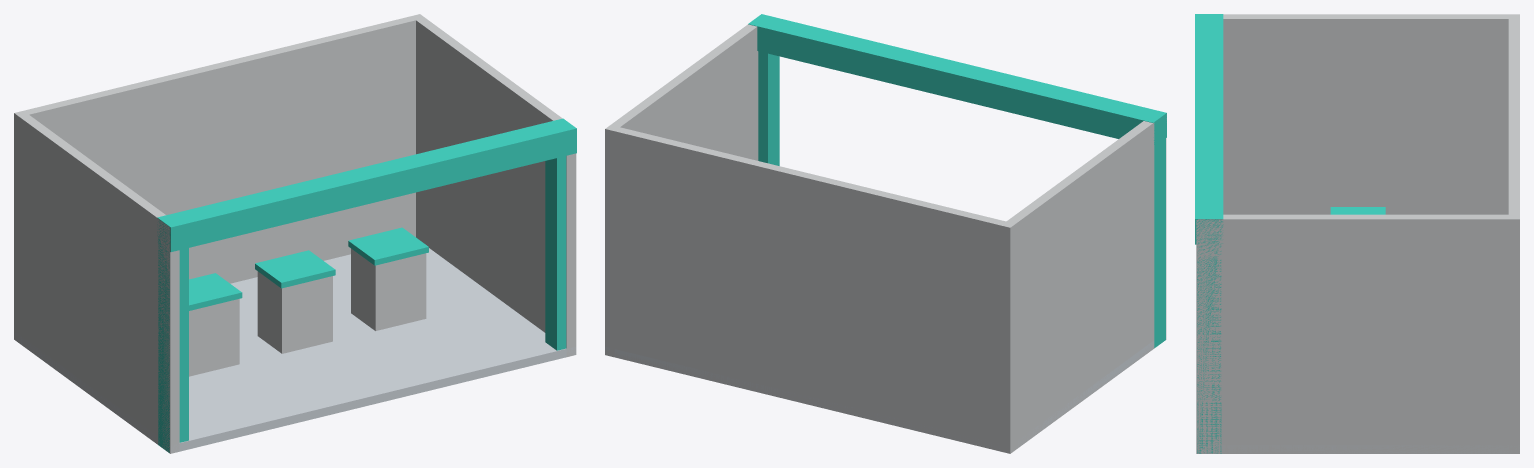
3 renders of one model, left to right at view 1: azimuth 30°, elevation 25°; view 2: azimuth 150°, elevation 25°; view 3: azimuth 270°, elevation 25°, orthographic. The views are drawn at different scales.
Visible parts, largest first — view 1: Exhibition Booth Concept; view 2: Exhibition Booth Concept; view 3: Exhibition Booth Concept.
Part boxes in pixels (x1,y1,x2,y2): Exhibition Booth Concept: [14, 14, 576, 453]; Exhibition Booth Concept: [605, 14, 1166, 453]; Exhibition Booth Concept: [1195, 14, 1519, 453].
Size of the model in its own units: 6 by 3.2 by 4.02.
